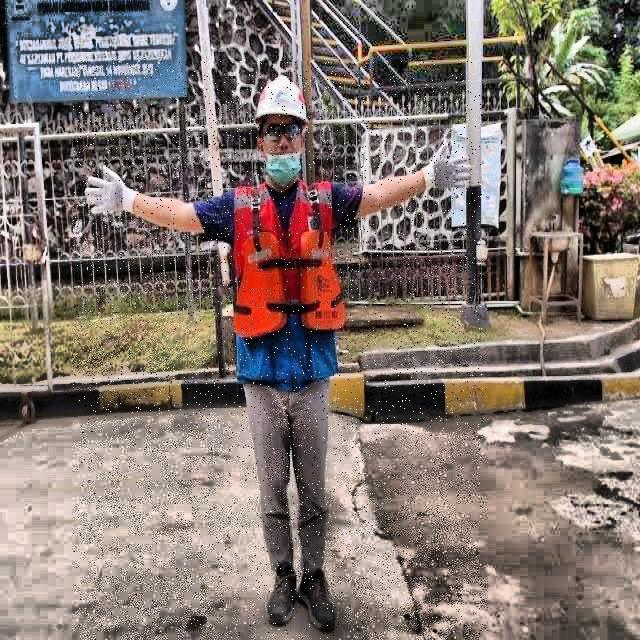safety_helmet: (256, 76, 310, 128)
safety_jacket: (233, 181, 346, 382)
